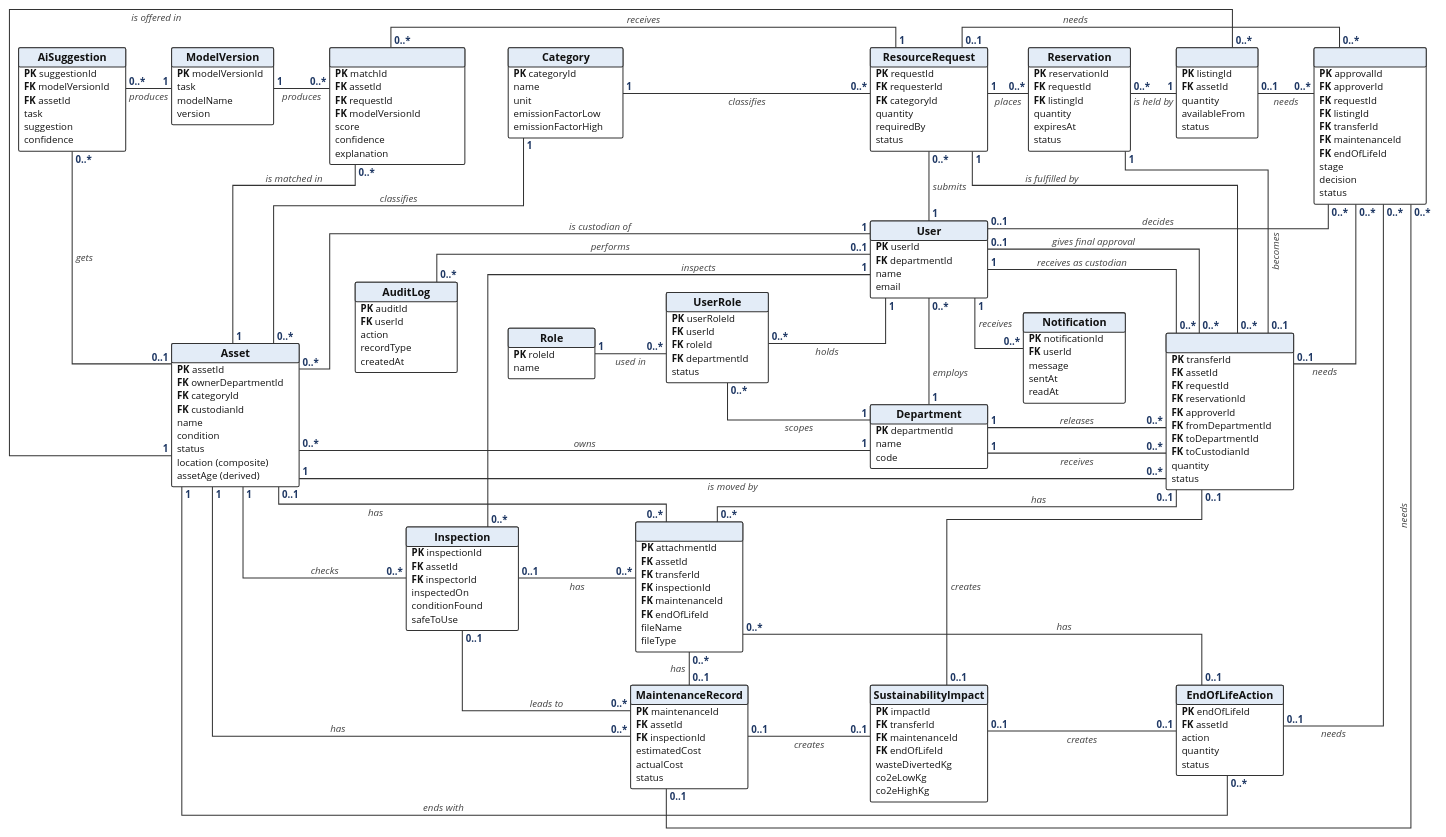
This 1446x837 diagram has some shape labels left out. The shapes that lost their labels are listed below. From the top down, each one's centre as x and y in pixels, then its label:
At point (397, 57): "MatchRecommendation".
At point (1217, 57): "Listing".
At point (1369, 57): "Approval".
At point (1229, 343): "Transfer".
At point (689, 531): "Attachment".
